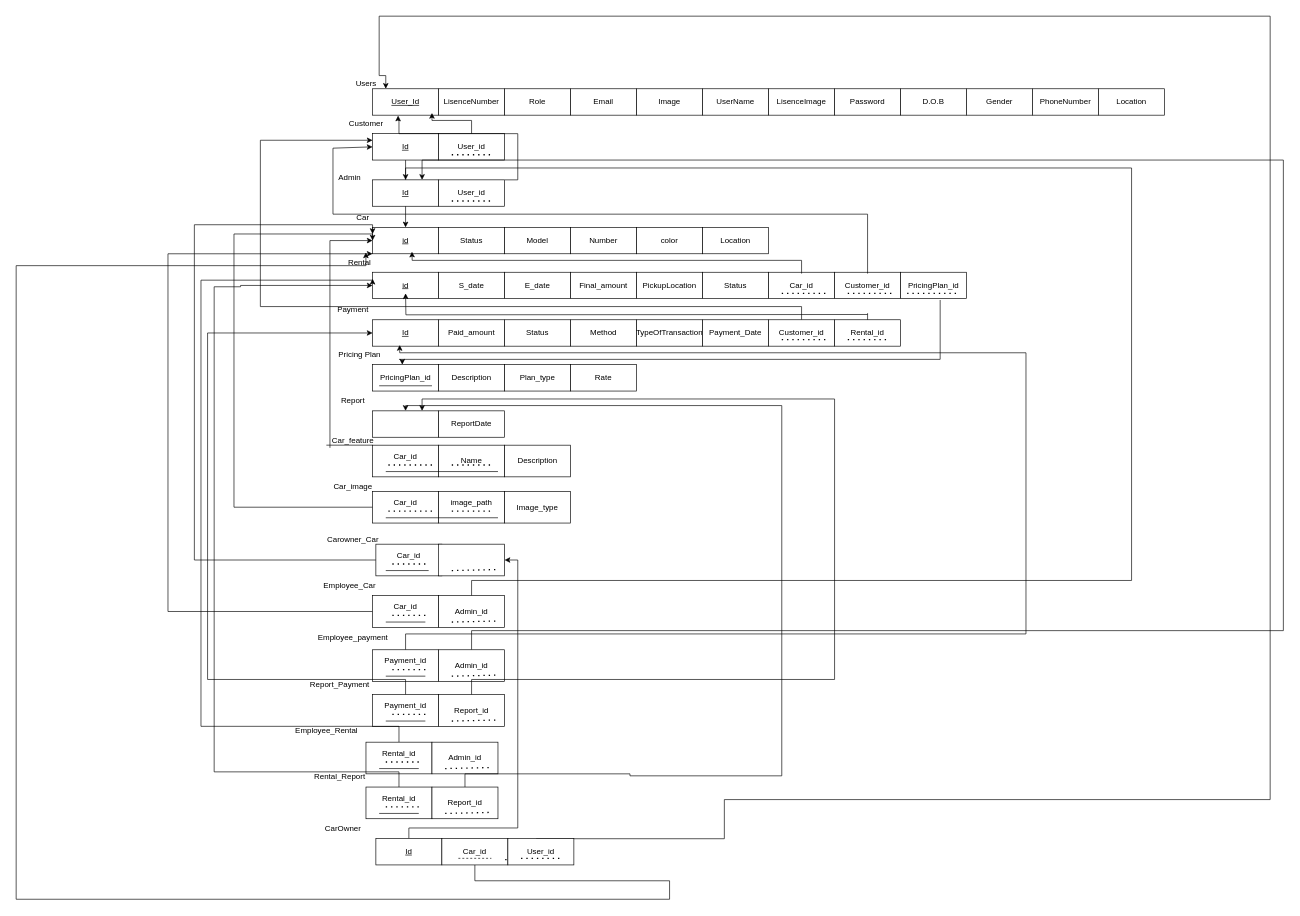
The diagram is 1300 pixels wide and 916 high, and some of its shapes have lost their labels. Here are the shapes that lost their labels. From the top down, the centre of each, then its label:
At point 405,423: "ReportId".
At point 471,560: "Owner_id".
